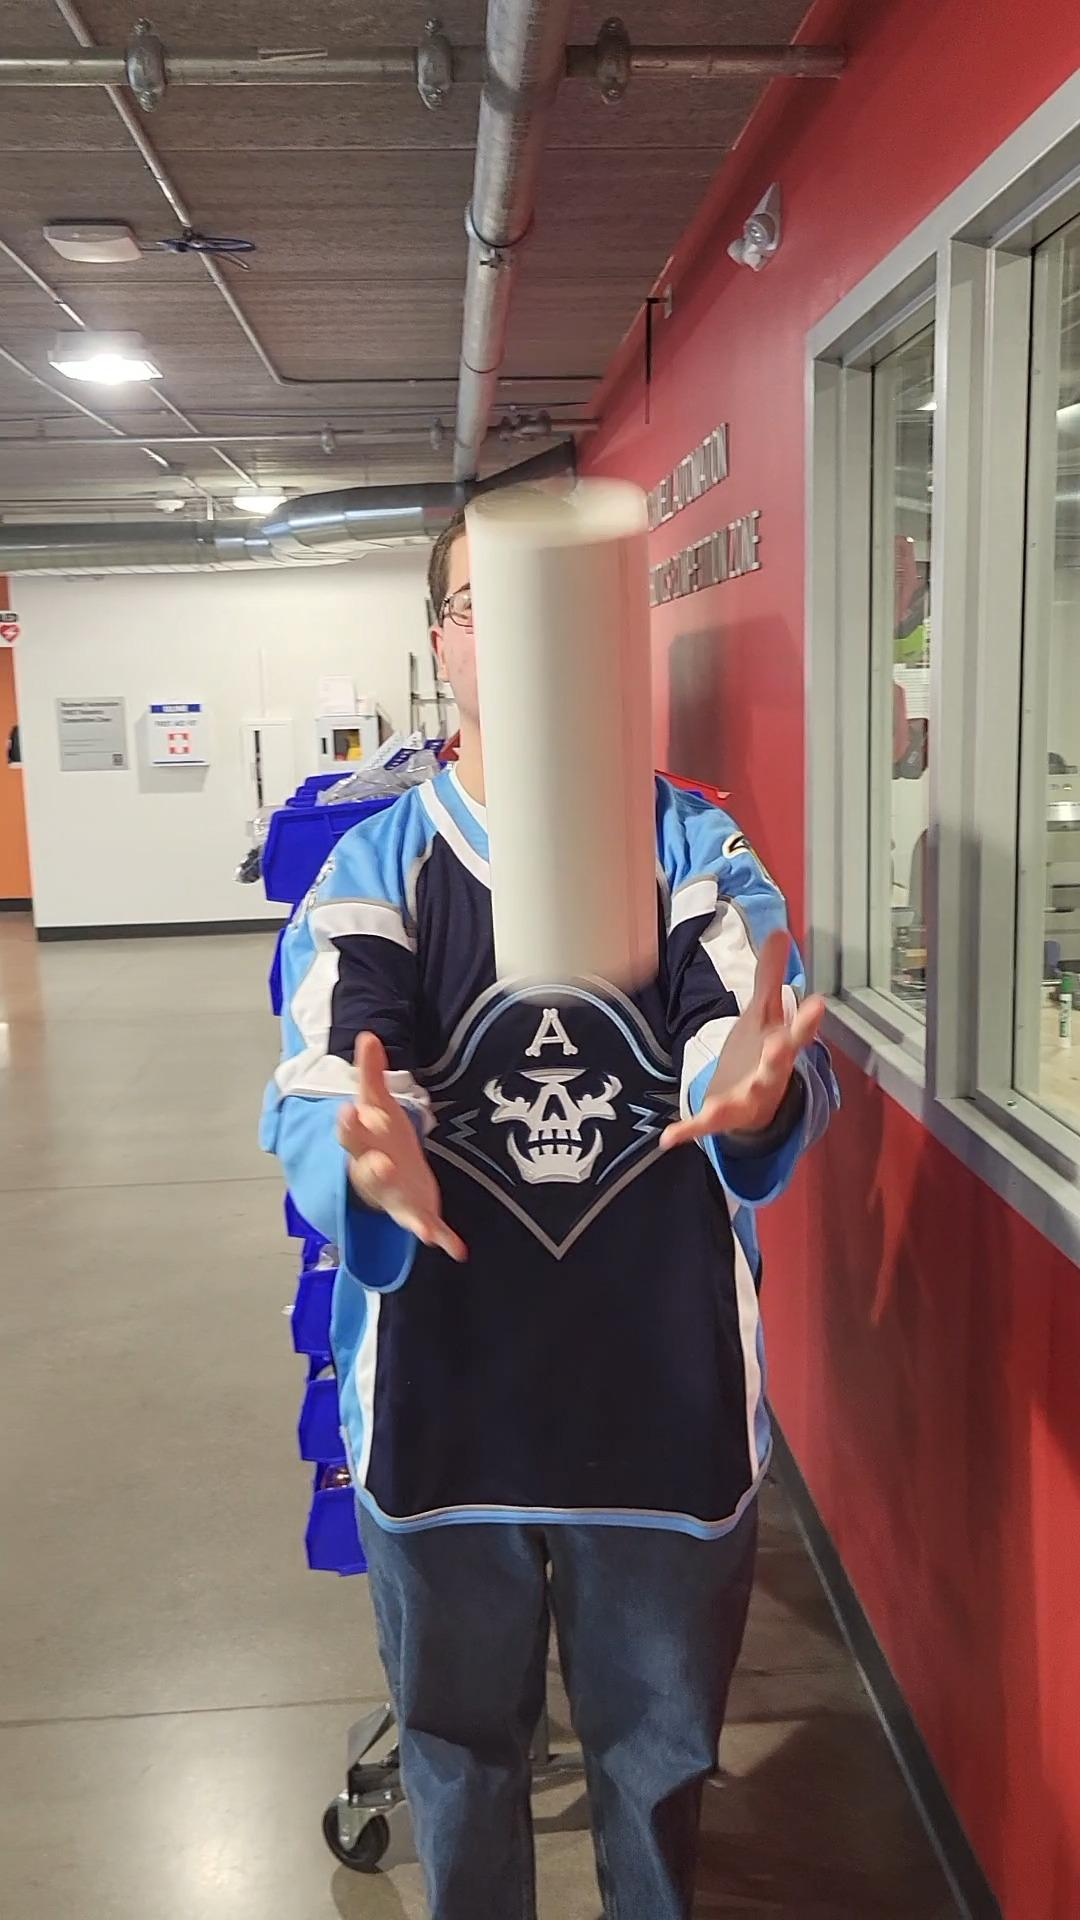coral: (460, 464, 663, 1000)
